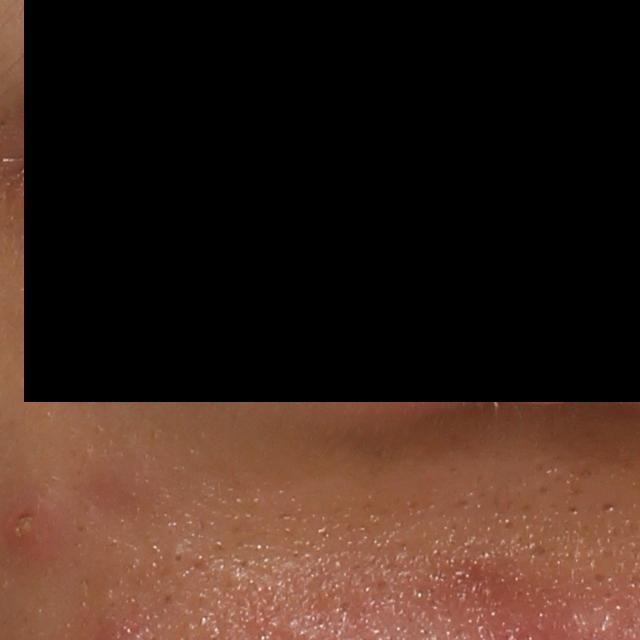comedo: (527, 541, 546, 562), (588, 569, 608, 587), (167, 549, 186, 567), (567, 505, 580, 516)
